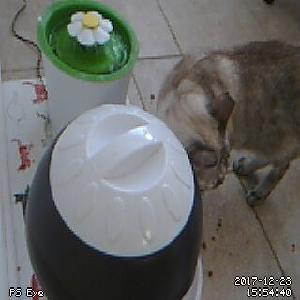cat: (154, 39, 300, 208)
fountain: (35, 1, 138, 83)
